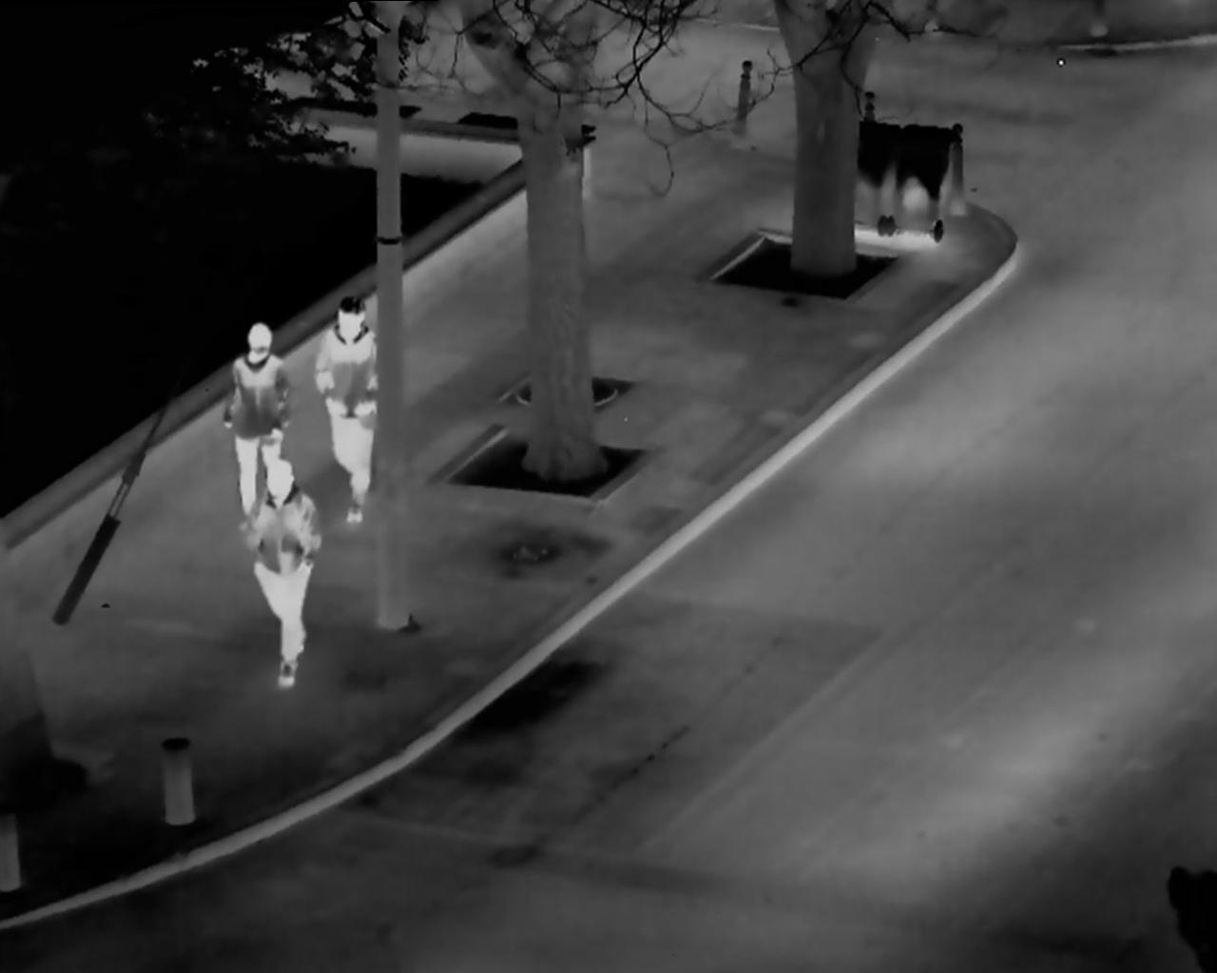person: (237, 453, 333, 689), (307, 289, 389, 528), (219, 307, 300, 531)
